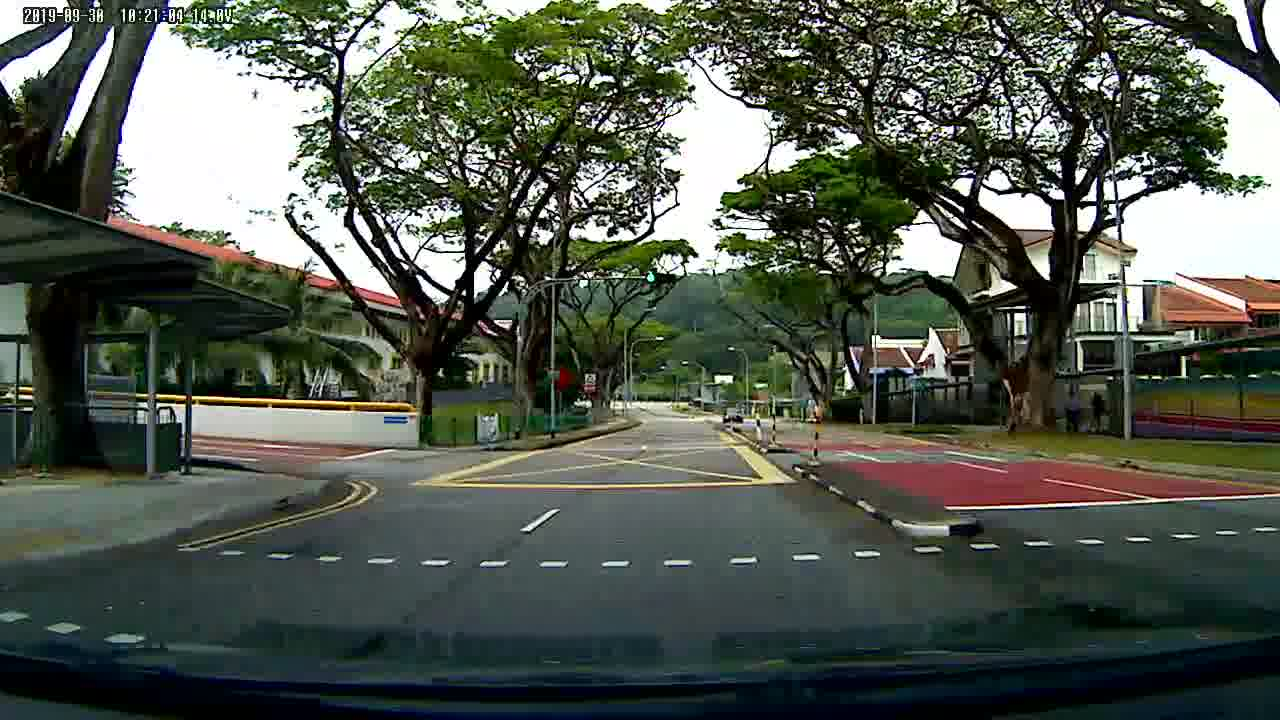car: (722, 404, 746, 422)
